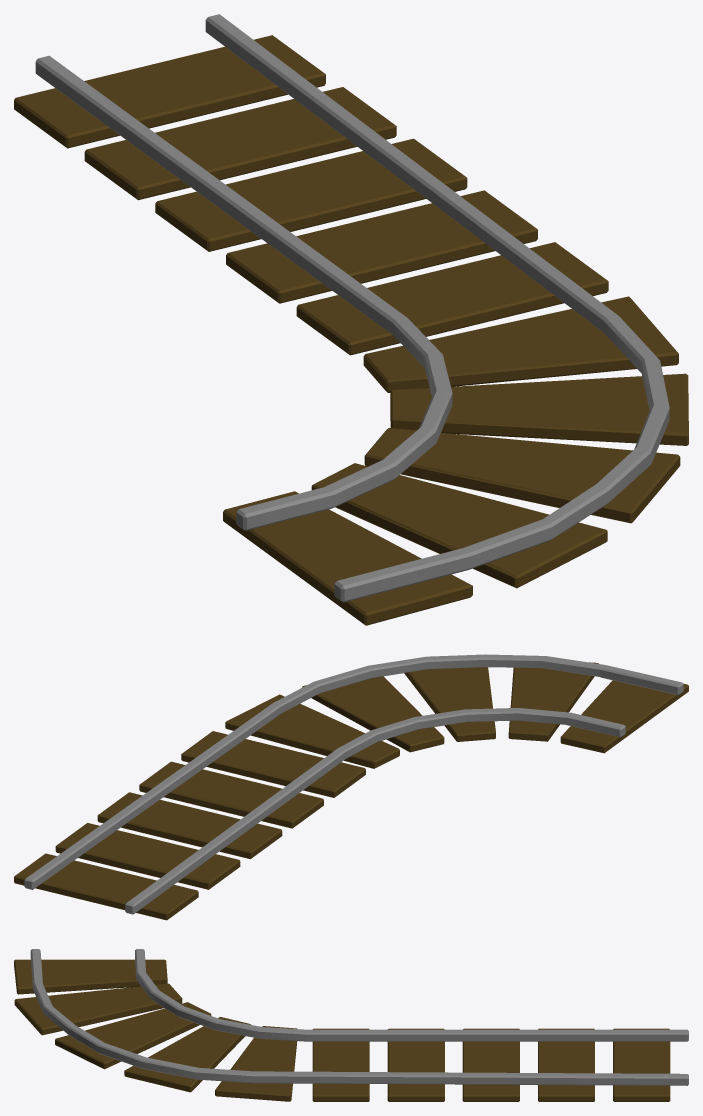
File: rails_curved.fbx
3 views of the same model, one above another, from view 1: azimuth 30°, elevation 25°; view 2: azimuth 150°, elevation 25°; view 3: azimuth 270°, elevation 25° (orthographic). The views are drawn at different scales.
Visible parts, largest first — view 1: prop_rails_curved; view 2: prop_rails_curved; view 3: prop_rails_curved.
Part boxes in pixels (x1,y1,x2,y2): prop_rails_curved: (14,14,688,625); prop_rails_curved: (14,654,688,920); prop_rails_curved: (14,949,688,1101).
Bounding box in the file's own units: 229 × 12.29 × 472.
